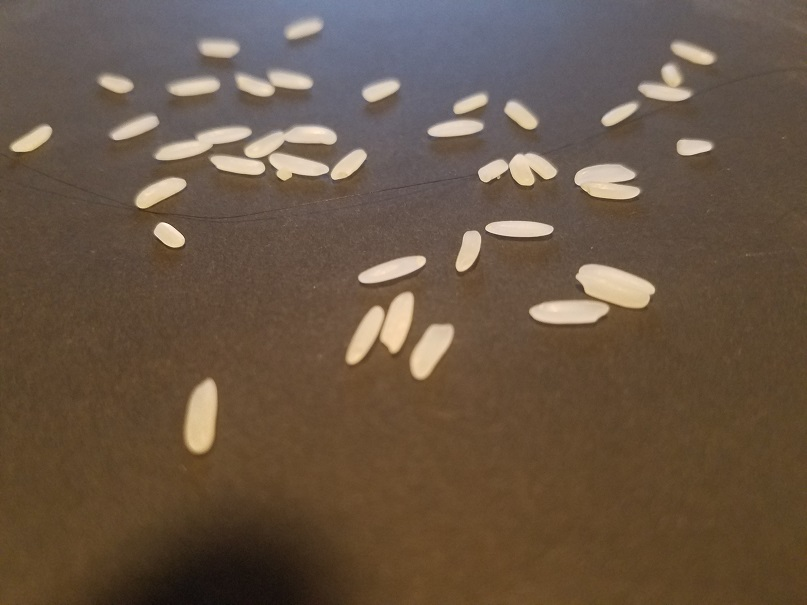egg: (571, 270, 653, 313), (181, 375, 220, 460), (403, 321, 457, 382), (343, 304, 385, 370), (577, 259, 658, 292), (353, 252, 430, 286), (376, 290, 415, 355), (527, 297, 610, 326), (136, 172, 187, 211), (664, 35, 718, 68), (480, 219, 558, 241), (268, 151, 331, 178), (501, 97, 544, 134), (109, 112, 160, 143), (453, 229, 483, 277), (9, 122, 55, 153), (152, 139, 214, 162), (264, 67, 315, 94), (579, 181, 644, 202), (331, 147, 370, 182), (520, 148, 560, 181), (573, 161, 638, 181), (277, 125, 342, 145), (205, 152, 266, 173), (195, 122, 253, 144), (242, 129, 286, 158), (426, 118, 485, 139), (164, 75, 223, 95), (638, 83, 697, 102), (355, 78, 401, 102), (602, 100, 641, 128), (282, 18, 323, 44), (98, 71, 136, 97), (237, 72, 278, 96), (474, 157, 509, 185), (447, 92, 487, 116), (153, 221, 187, 249), (196, 37, 242, 57), (509, 154, 536, 186), (659, 60, 686, 89), (675, 138, 716, 157), (277, 164, 293, 181)
